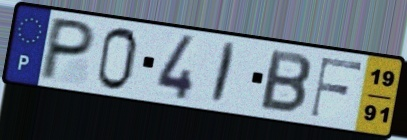0: (94, 25, 142, 92)
4: (154, 32, 197, 103)
B: (257, 47, 314, 116)
F: (307, 55, 366, 120)
I: (208, 39, 240, 107)
P: (35, 14, 99, 83)
